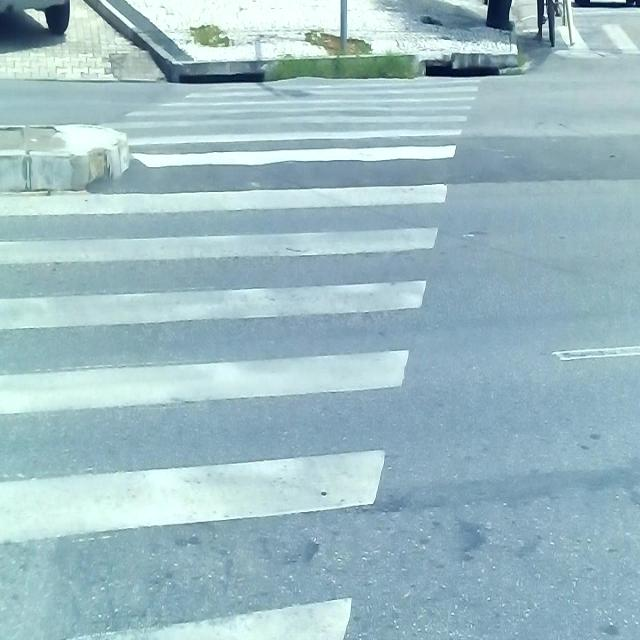crosswalk: (0, 75, 483, 640)
